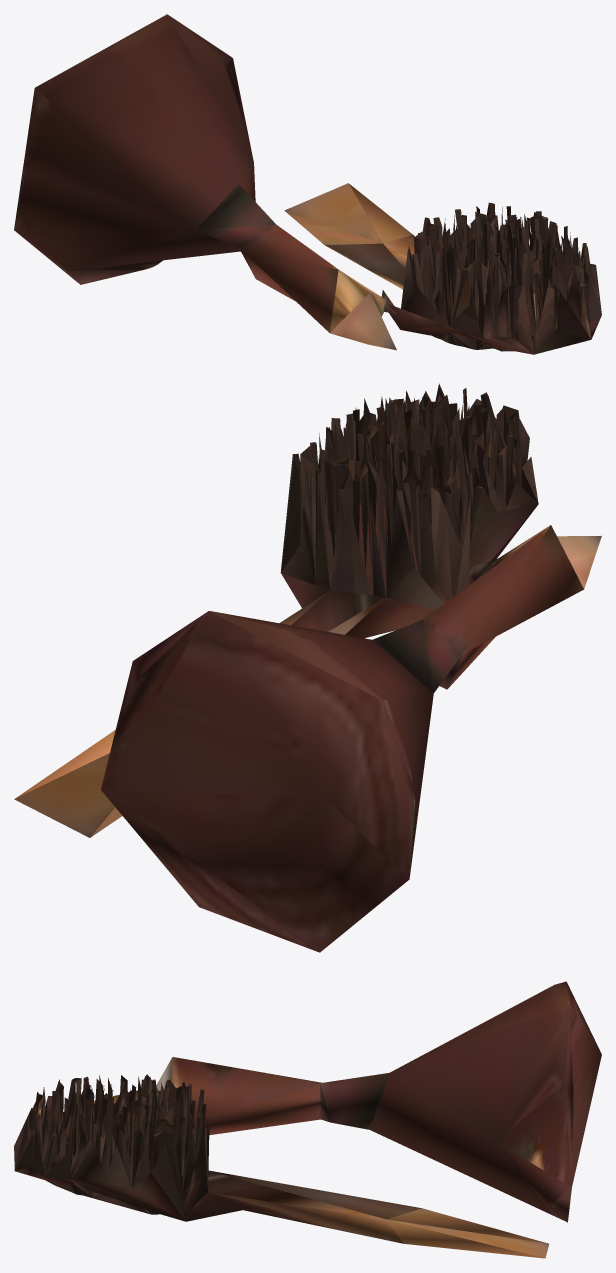
Rendered from la_part_bellows.glb.
3 renders of one model, top to bottom at view 1: azimuth 30°, elevation 25°; view 2: azimuth 150°, elevation 25°; view 3: azimuth 270°, elevation 25°, orthographic. The views are drawn at different scales.
Parts seen in each view (by area): view 1: la_part_bellows; view 2: la_part_bellows; view 3: la_part_bellows.
Boxes of the visible parts, bbox=[...] form: la_part_bellows: bbox=[14, 14, 601, 354]; la_part_bellows: bbox=[14, 383, 601, 952]; la_part_bellows: bbox=[14, 981, 601, 1258].
Bounding box in the file's own units: 0.3442 × 0.2534 × 0.602.
Materials: 1 (1 with a texture image).
